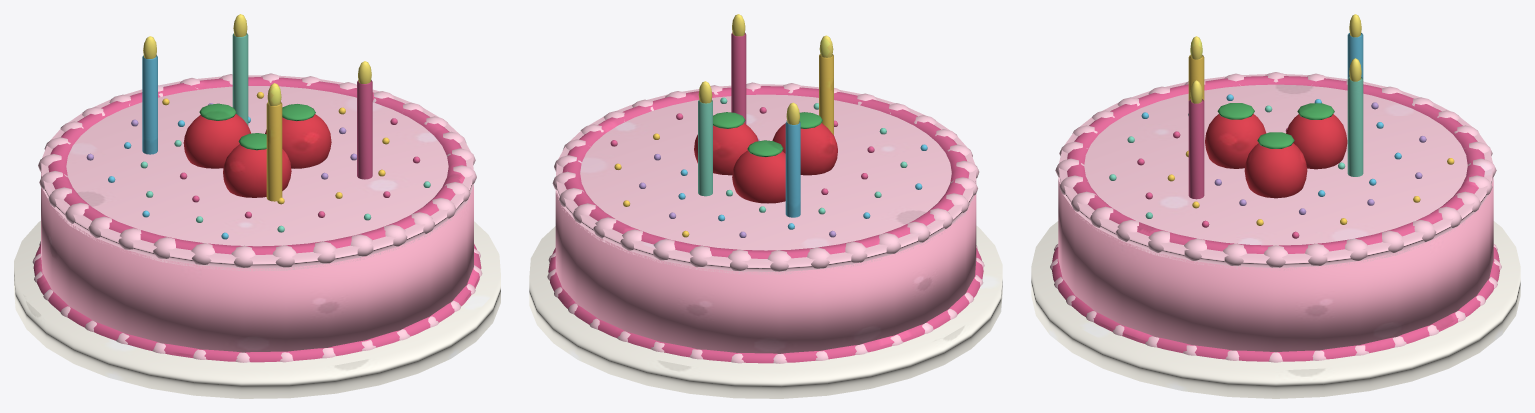
The model's file is pastel_cumpleanos.obj.
3 renders of one model, left to right at view 1: azimuth 30°, elevation 25°; view 2: azimuth 150°, elevation 25°; view 3: azimuth 270°, elevation 25°, orthographic. The views are drawn at different scales.
Parts seen in each view (by area): view 1: pastel_cumpleanos; view 2: pastel_cumpleanos; view 3: pastel_cumpleanos.
Part boxes in pixels (x1=…): pastel_cumpleanos: x1=14, y1=14, x2=500, y2=398; pastel_cumpleanos: x1=529, y1=14, x2=1002, y2=398; pastel_cumpleanos: x1=1031, y1=14, x2=1520, y2=398.
Size of the model in its own units: 2.34 by 1.31 by 2.34.
11 materials, 11 textured.
